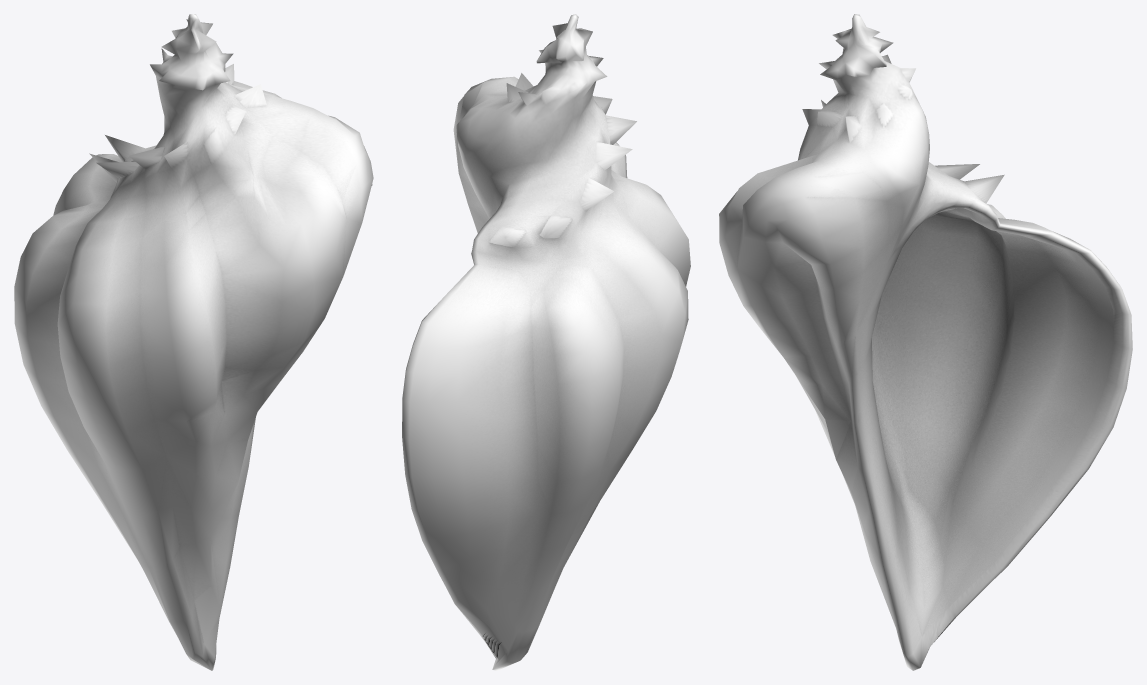
Rendered from Shell.fbx.
The picture shows the model from 3 angles, left to right: view 1: azimuth 30°, elevation 25°; view 2: azimuth 150°, elevation 25°; view 3: azimuth 270°, elevation 25°; orthographic projection. The views are drawn at different scales.
Parts seen in each view (by area): view 1: Shell; view 2: Shell; view 3: Shell.
Part boxes in pixels (x1,y1,x2,y2): Shell: [14, 14, 373, 670]; Shell: [402, 14, 690, 670]; Shell: [719, 14, 1132, 670].
Size of the model in its own units: 169 by 417 by 247.
Materials: 1 (1 with a texture image).
